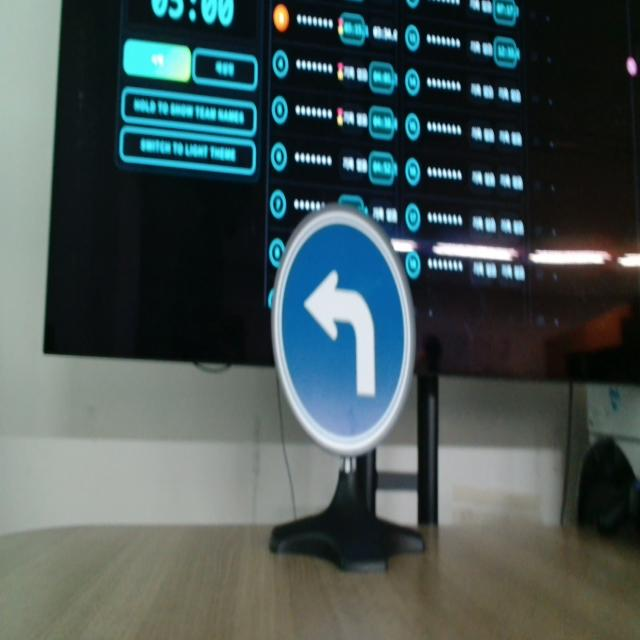left_direction: (272, 194, 424, 462)
